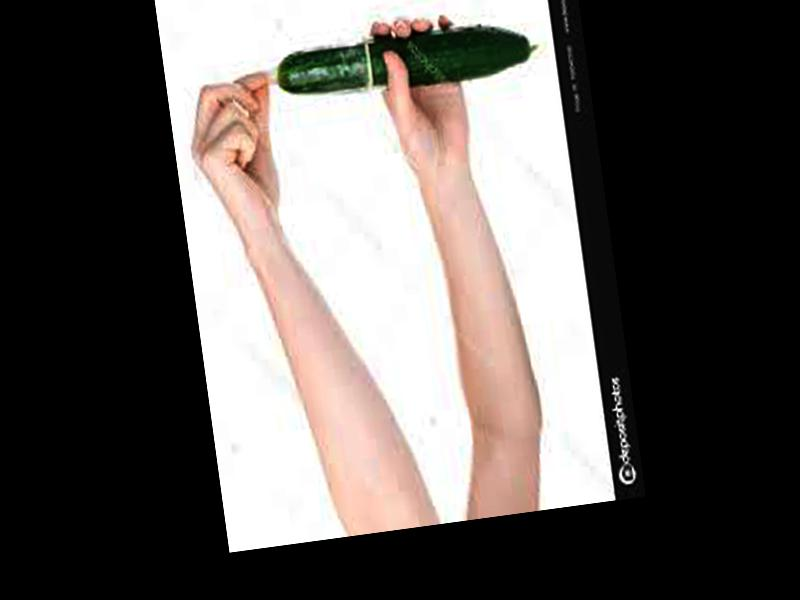Cucumber: (273, 19, 539, 100)
